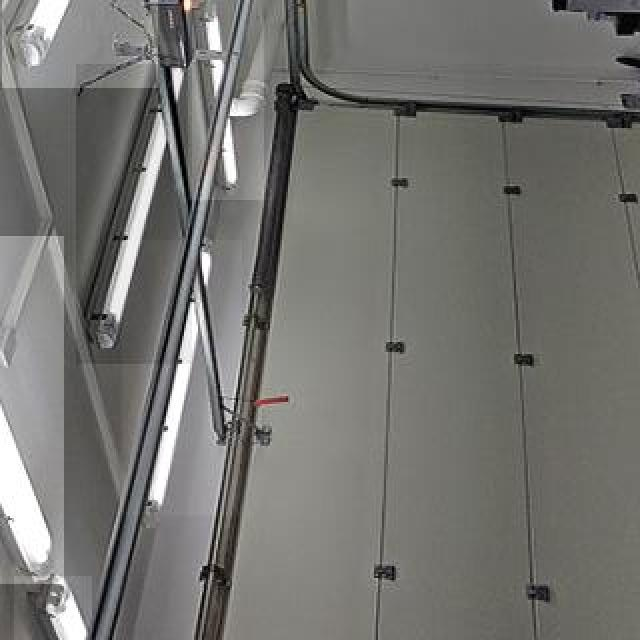fluorescent tube: (113, 228, 240, 536), (71, 87, 196, 349), (0, 230, 46, 582), (180, 0, 260, 198), (4, 0, 164, 92), (0, 568, 108, 638)
